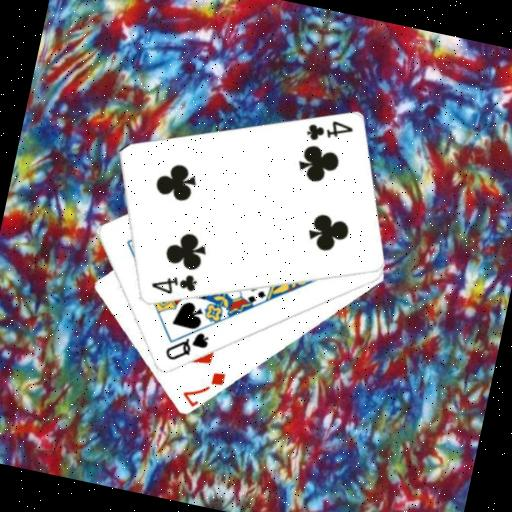4C: (301, 112, 356, 151), (146, 264, 200, 301)
7D: (177, 362, 229, 414)
QS: (160, 323, 212, 369)
